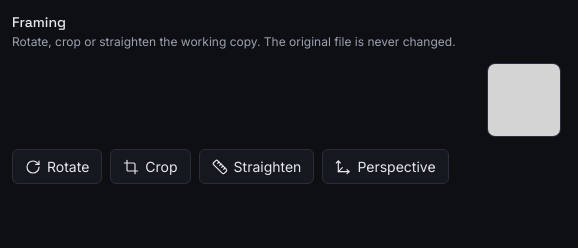
GeometryTools › cancels a straighten without sending anything
This screenshot has width=578, height=248.
Click the button "Straighten" at point(256, 166), box [199, 149, 314, 184]
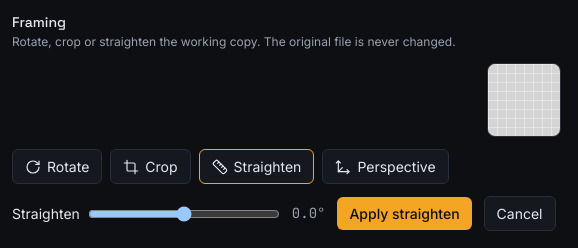
Set the slider labelled "Straighten" to "5" at point(194, 214), box [88, 206, 280, 222]
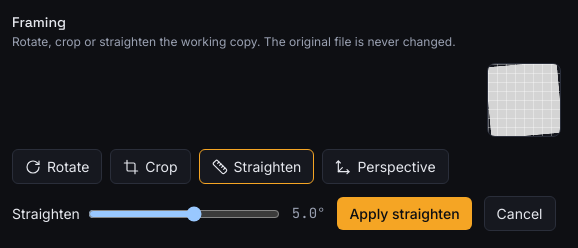
Click the button "Cancel" at point(520, 214), box [484, 196, 556, 231]
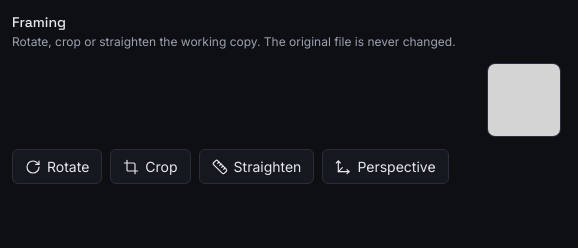
Expected: the element with test id "restore-straighten-grid" is gone
